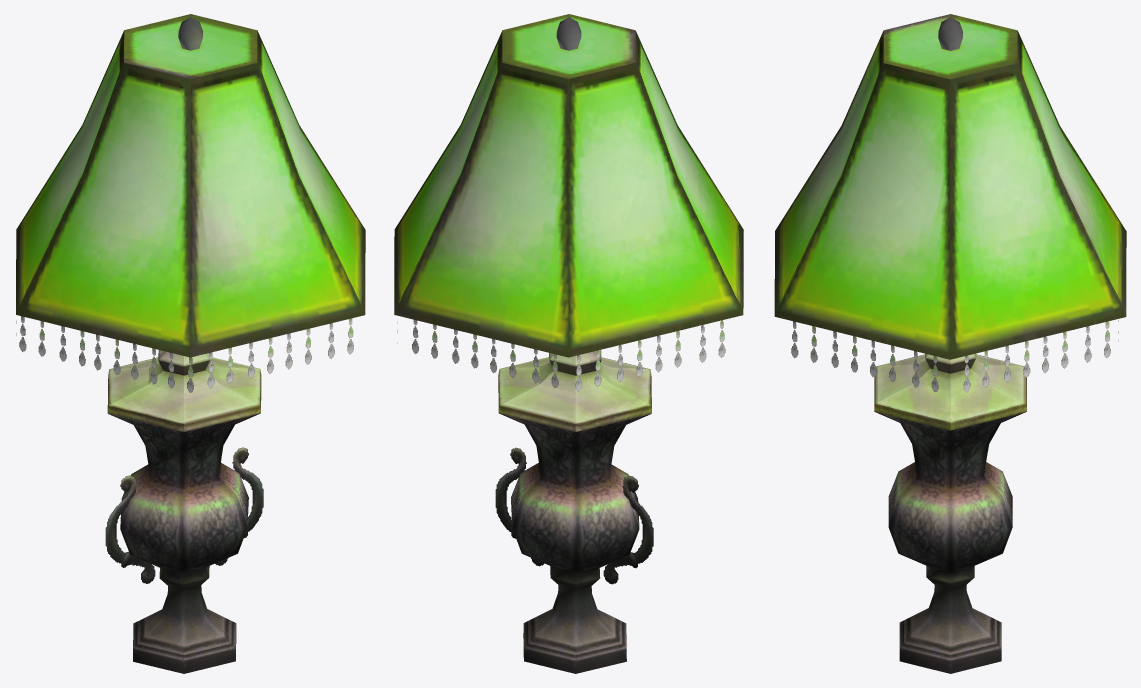
File: furni_0201201_03.FBX
3 views of the same model, side by side, from view 1: azimuth 30°, elevation 25°; view 2: azimuth 150°, elevation 25°; view 3: azimuth 270°, elevation 25° (orthographic).
Parts seen in each view (by area): view 1: furni_0201201_03; view 2: furni_0201201_03; view 3: furni_0201201_03.
Boxes of the visible parts, box(x1,y1,x2,y2) form: furni_0201201_03: box(16, 14, 365, 673); furni_0201201_03: box(394, 14, 743, 673); furni_0201201_03: box(774, 14, 1126, 673).
Bounding box in the file's own units: 59.47 × 103 × 51.88.
